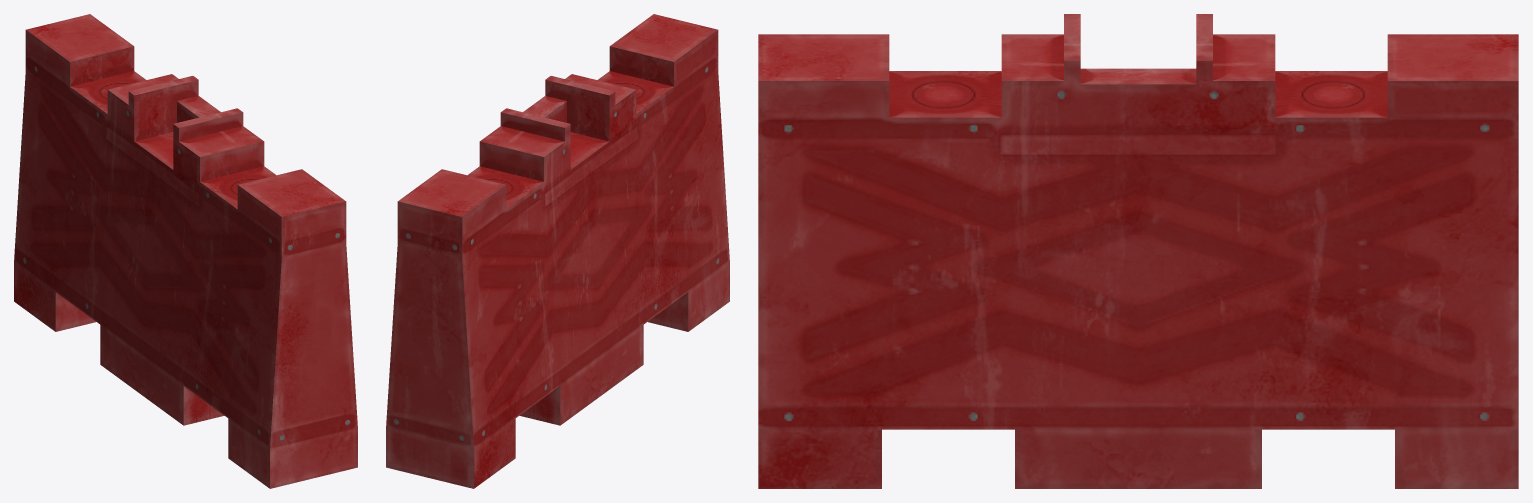
Rendered from MB_Road_Barrier_Sand.fbx.
The picture shows the model from 3 angles, left to right: view 1: azimuth 30°, elevation 25°; view 2: azimuth 150°, elevation 25°; view 3: azimuth 270°, elevation 25°; orthographic projection. The views are drawn at different scales.
Parts seen in each view (by area): view 1: MB_Road_Barrier_Sand; view 2: MB_Road_Barrier_Sand; view 3: MB_Road_Barrier_Sand.
Part boxes in pixels (box(x1,y1,x2,y2)): MB_Road_Barrier_Sand: box(14, 14, 357, 488); MB_Road_Barrier_Sand: box(386, 14, 729, 488); MB_Road_Barrier_Sand: box(758, 14, 1518, 488).
Bounding box in the file's own units: 29.52 × 90.76 × 149.
